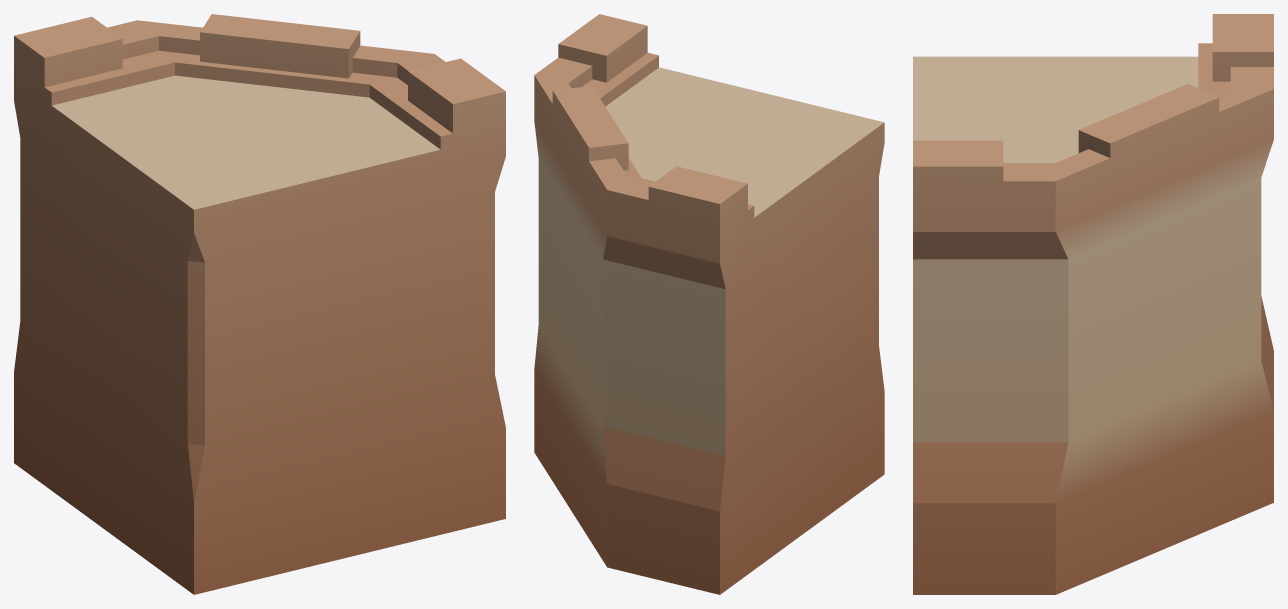
Rendered from wall-corner-slant.glb.
3 views of the same model, side by side, from view 1: azimuth 30°, elevation 25°; view 2: azimuth 150°, elevation 25°; view 3: azimuth 270°, elevation 25° (orthographic). The views are drawn at different scales.
Parts seen in each view (by area): view 1: wall-corner-slant; view 2: wall-corner-slant; view 3: wall-corner-slant.
Part boxes in pixels (x1=…): wall-corner-slant: x1=14, y1=14, x2=505, y2=594; wall-corner-slant: x1=534, y1=14, x2=884, y2=594; wall-corner-slant: x1=913, y1=14, x2=1273, y2=594.
Bounding box in the file's own units: 1 × 1.31 × 1.
